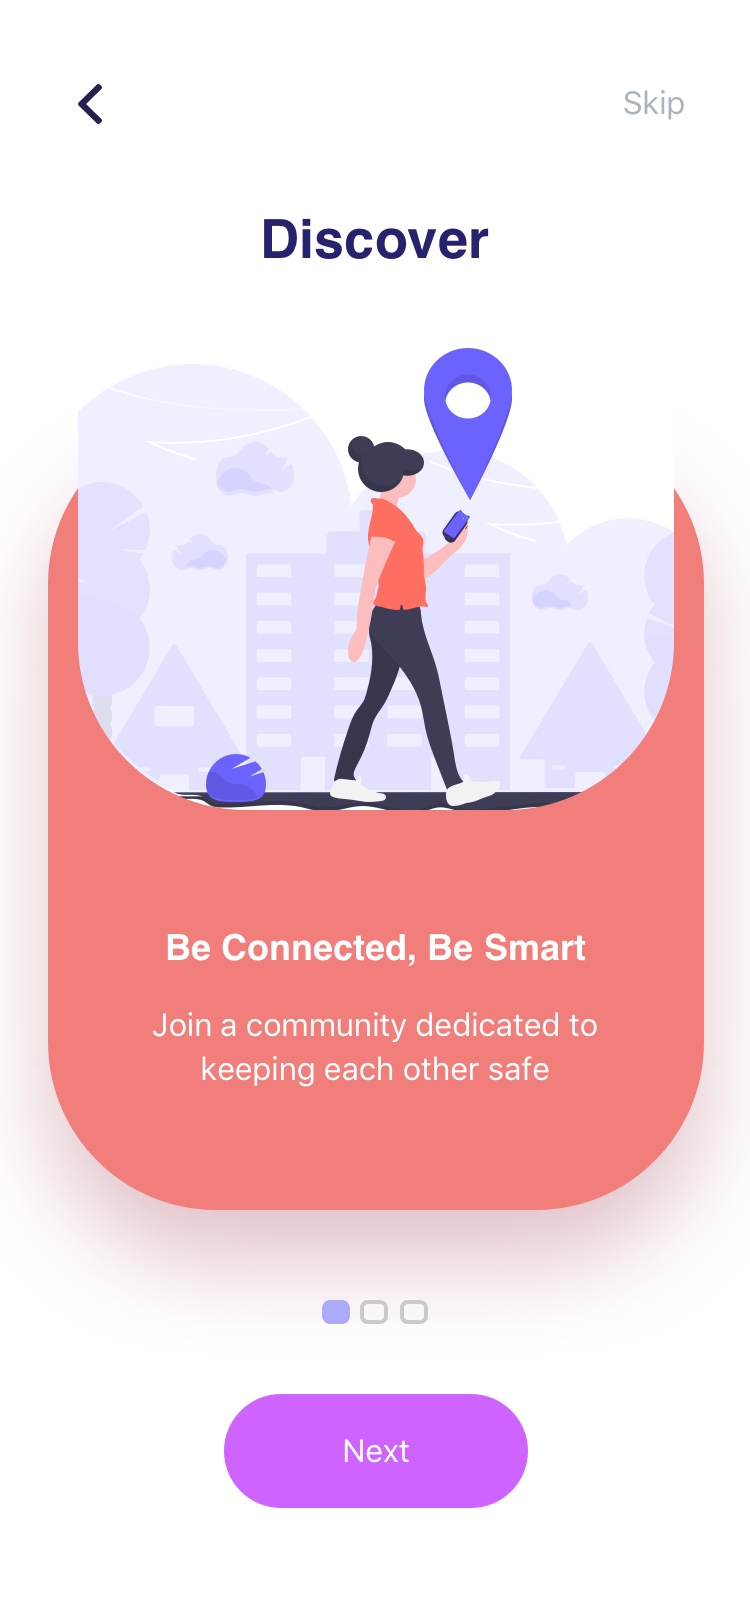Icon: (77, 83, 105, 126)
Image: (78, 348, 675, 812)
PageIndicator: (322, 1299, 430, 1325)
Text: (153, 1011, 599, 1087), (167, 932, 586, 967), (264, 219, 489, 260), (623, 90, 685, 122)
TextButton: (224, 1394, 529, 1509)
